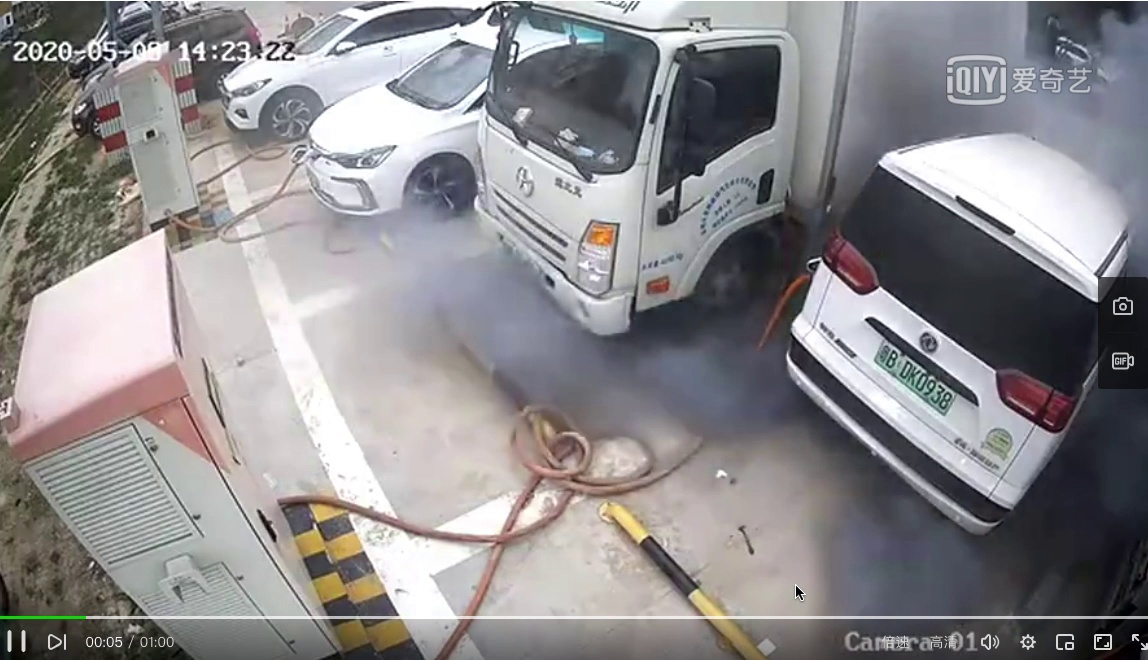smoke: (445, 260, 807, 433)
